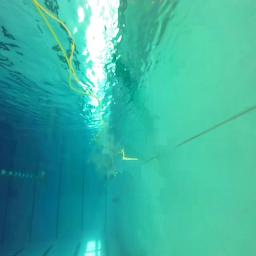Full: (112, 197, 121, 203)
